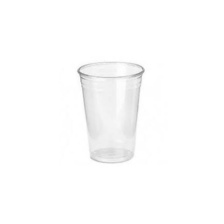glass: (71, 55, 151, 167)
